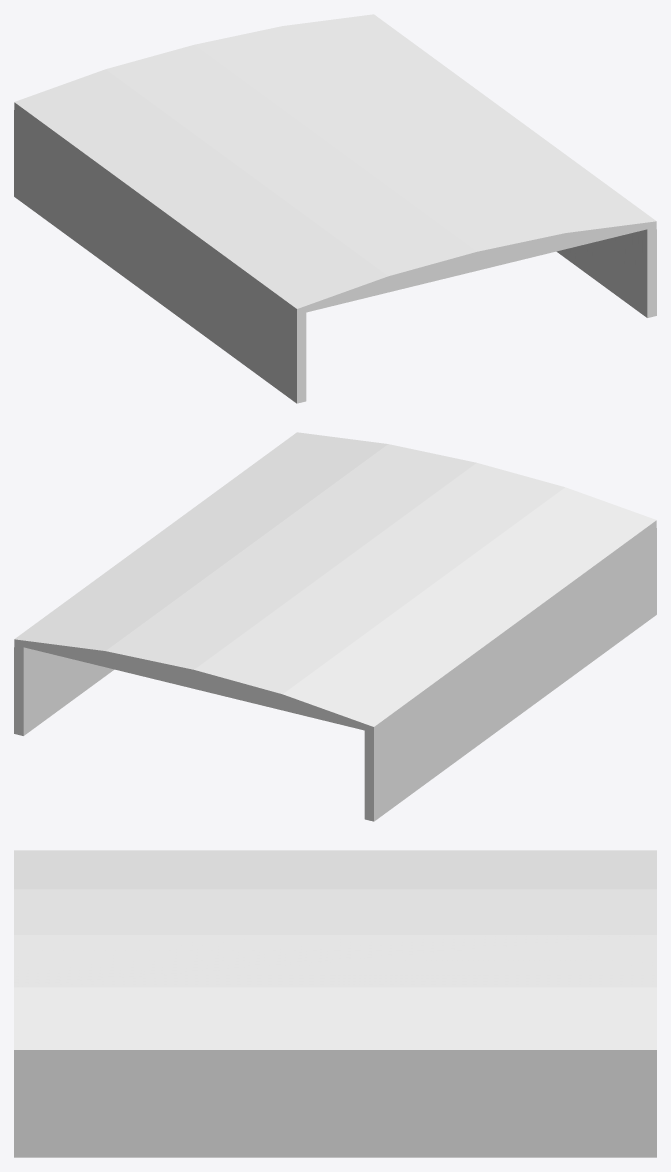
The model's file is Itr_Bed_Single_Blanket_01.FBX.
The picture shows the model from 3 angles, top to bottom: view 1: azimuth 30°, elevation 25°; view 2: azimuth 150°, elevation 25°; view 3: azimuth 270°, elevation 25°; orthographic projection. The views are drawn at different scales.
Parts seen in each view (by area): view 1: Itr_Bed_Single_Blanket_01; view 2: Itr_Bed_Single_Blanket_01; view 3: Itr_Bed_Single_Blanket_01.
Part boxes in pixels (x1=…): Itr_Bed_Single_Blanket_01: x1=14, y1=14, x2=656, y2=403; Itr_Bed_Single_Blanket_01: x1=14, y1=432, x2=656, y2=821; Itr_Bed_Single_Blanket_01: x1=14, y1=850, x2=656, y2=1157.
Size of the model in its own units: 47.68 by 13.65 by 64.86.
